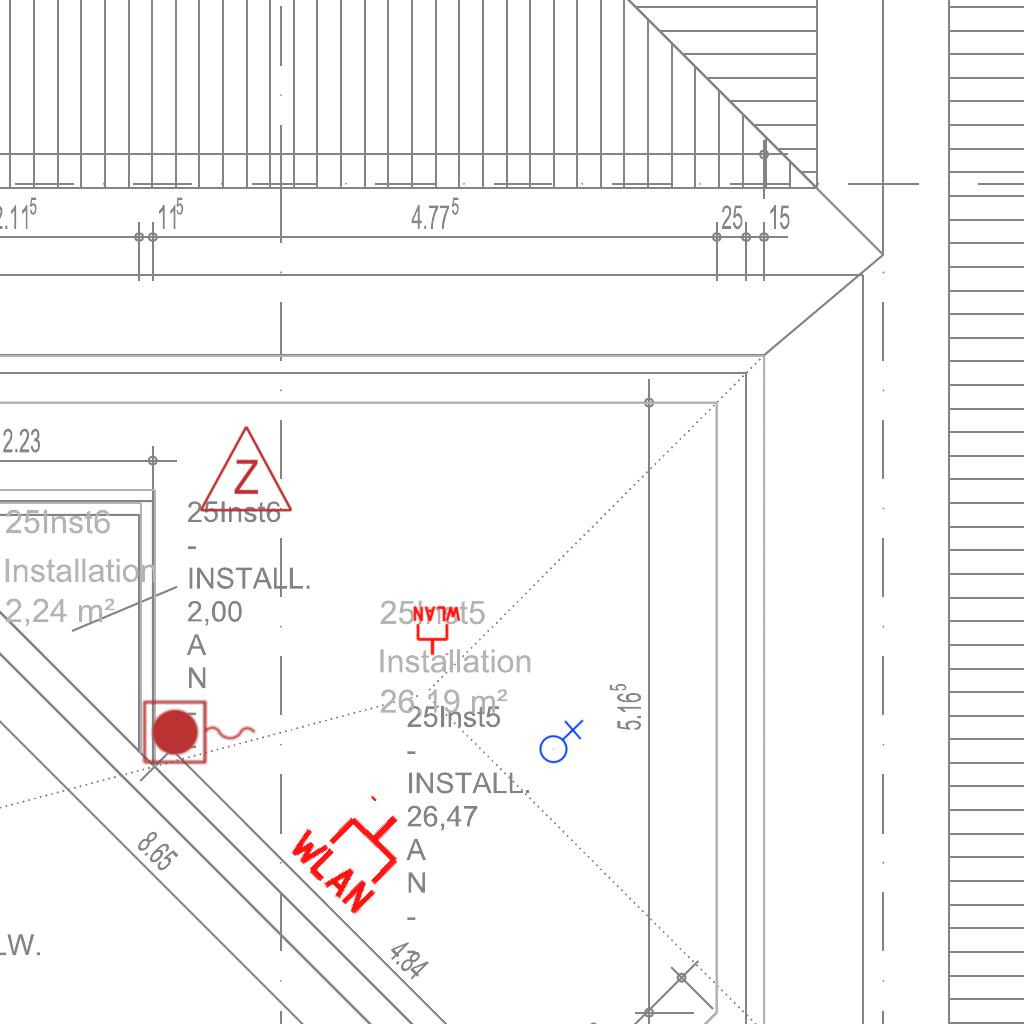Elektroanschluss_allgemein_230V_Geraeteanschlussdose_230V: (535, 717, 584, 764)
WLAN: (281, 772, 430, 920), (411, 605, 463, 657)
Zimmersignalleuchte: (196, 419, 294, 519)
Zugtaster: (139, 697, 261, 769)
